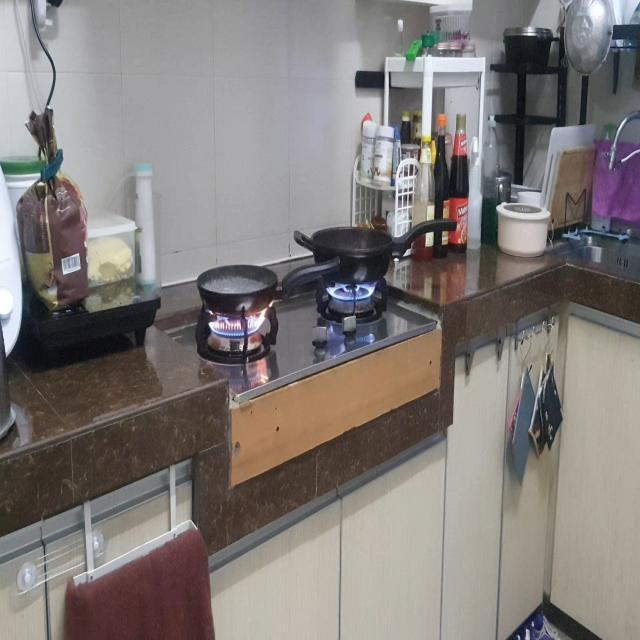smoke: (204, 299, 284, 353), (316, 272, 396, 300)
